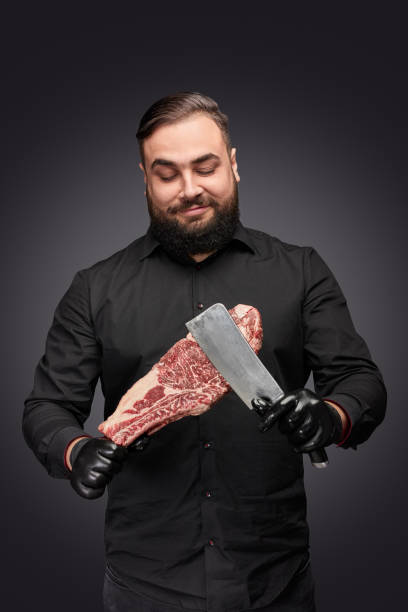knife: (184, 302, 330, 472)
